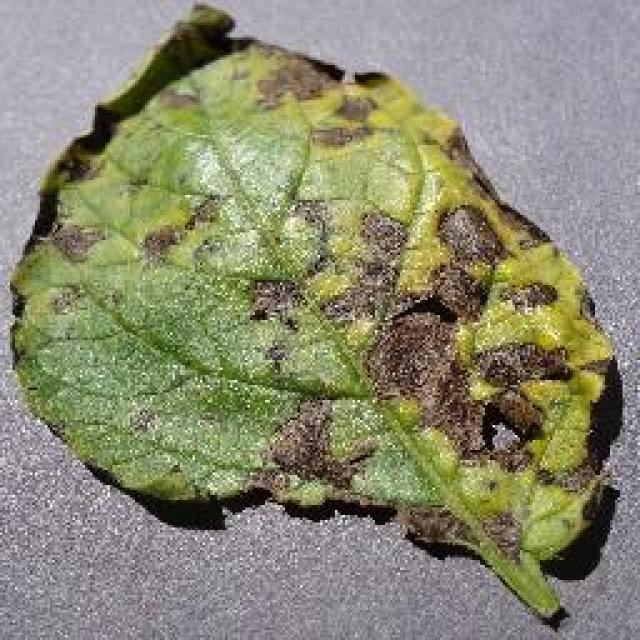early_blight: (5, 0, 623, 628)
